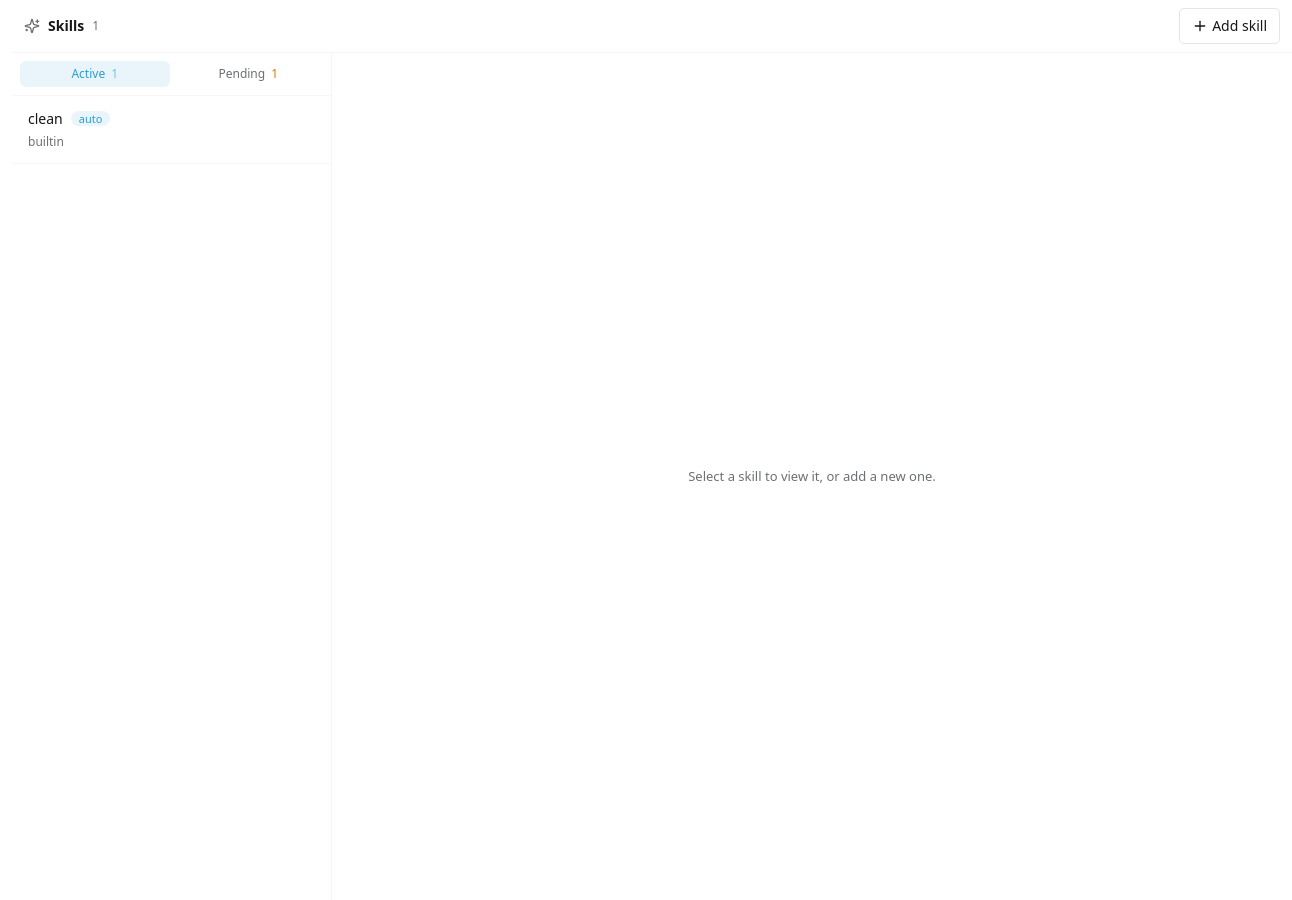
Test: SkillsView security surface › lists pending imports with their reason, and shows findings on triage
Expected: the text "clean" is shown, [28,108,63,129]
Click the button "Pending 1". click: (248, 74)
box: [174,61,323,87]
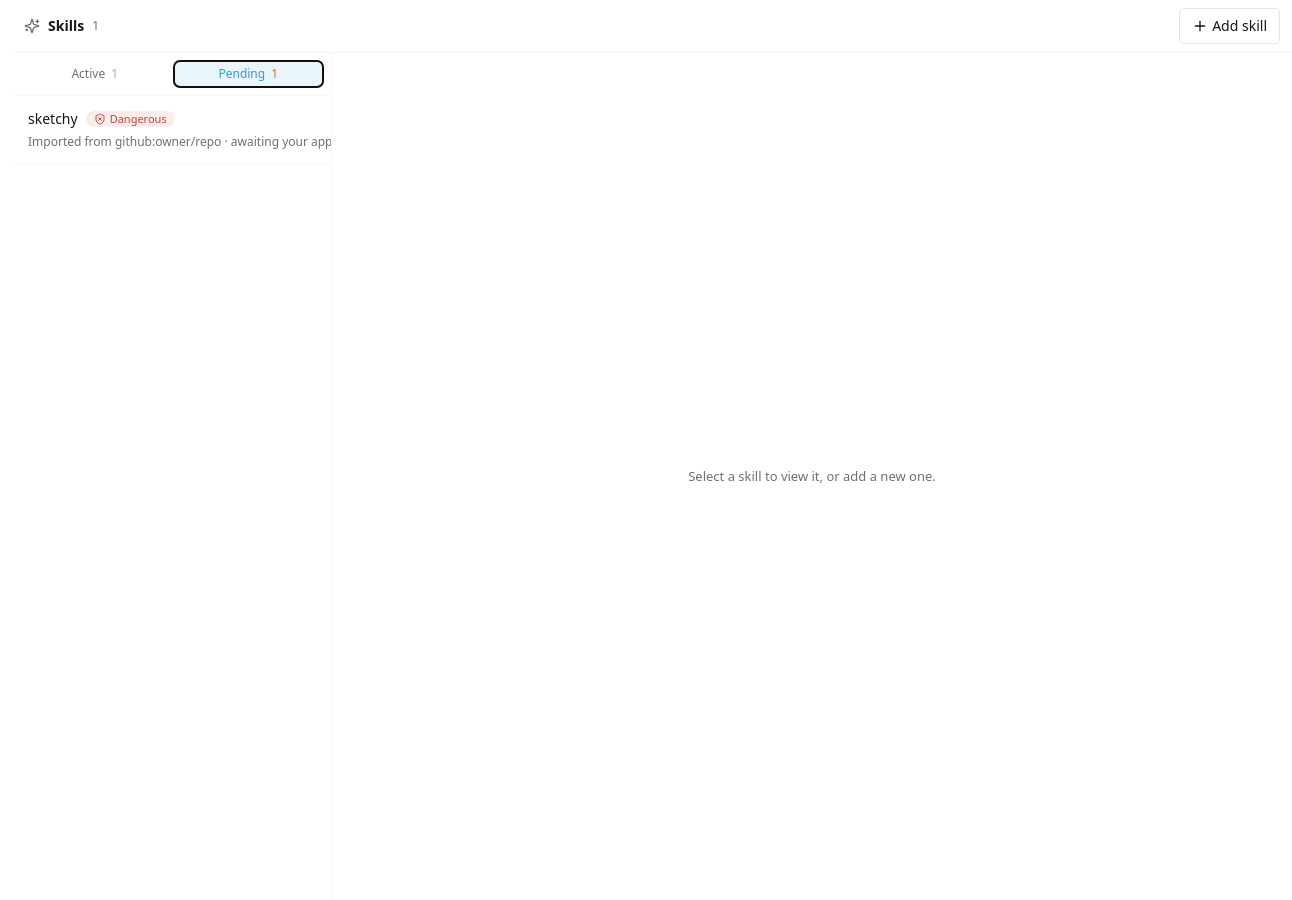
Result: the text "sketchy" is shown at [28,108,78,129]
Result: the text "Imported from github:owner/repo · awaiting your approval" is shown at [28,133,332,151]
the security findings live in the triage detail pane, opened on click
Click the button "sketchy". click: (172, 130)
box: [12,96,331,164]
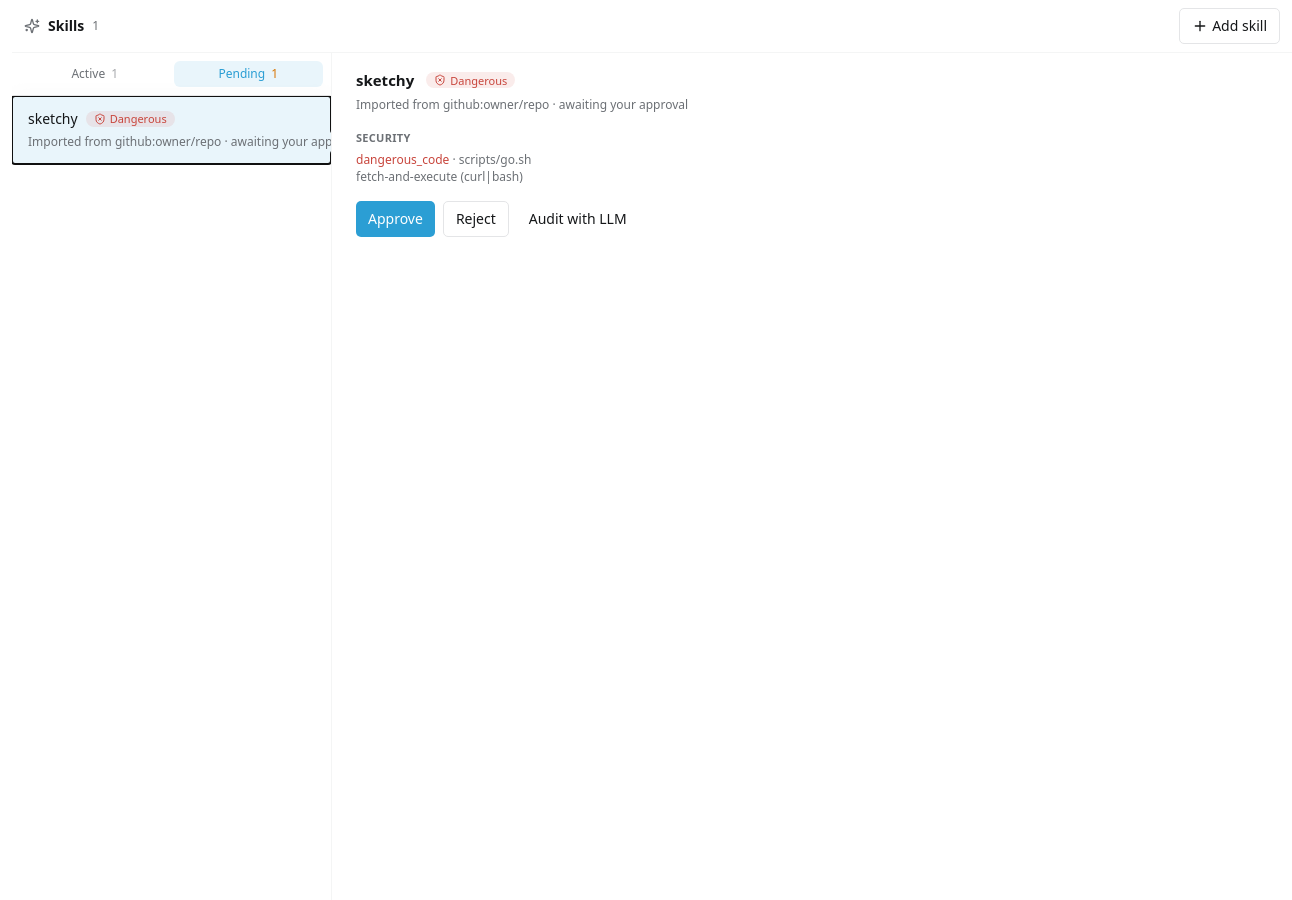
Result: the text "fetch-and-execute (curl|bash)" is shown at [356,168,523,184]
